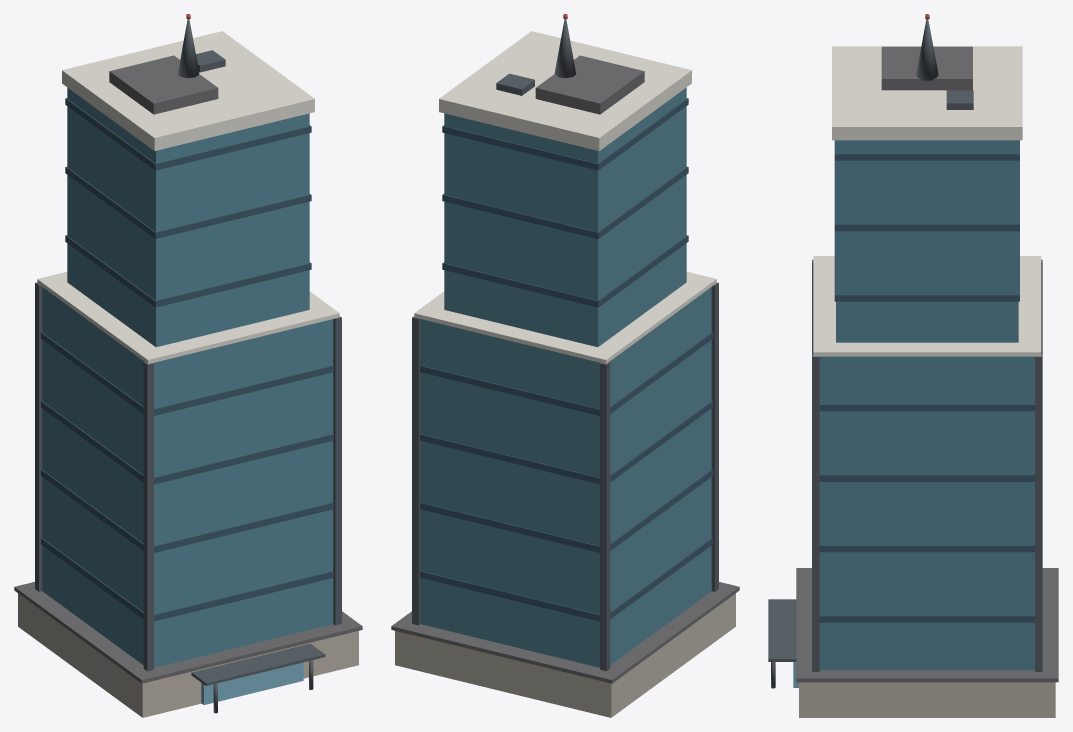
The model's file is office_tower_high.glb.
3 renders of one model, left to right at view 1: azimuth 30°, elevation 25°; view 2: azimuth 150°, elevation 25°; view 3: azimuth 270°, elevation 25°, orthographic. The views are drawn at different scales.
Parts seen in each view (by area): view 1: office_shaft, office_upper, office_crown, office_podium, office_setback_slab, office_podium_roof, office_roof_box, office_corner_fin, office_corner_fin.002, office_corner_fin.001, office_spandrel.003, office_spandrel.001 (+8 smaller); view 2: office_shaft, office_upper, office_crown, office_podium, office_setback_slab, office_podium_roof, office_roof_box, office_corner_fin.001, office_corner_fin.003, office_corner_fin, office_spandrel.003, office_spandrel.001 (+7 smaller); view 3: office_shaft, office_upper, office_crown, office_podium, office_setback_slab, office_podium_roof, office_roof_box, office_corner_fin.002, office_corner_fin.003, office_canopy, office_spandrel_up.001, office_spandrel_up (+7 smaller).
Part boxes in pixels (x1,y1,x2,y2): office_shaft: (42,287,333,667); office_upper: (67,87,309,347); office_crown: (62,31,314,150); office_podium: (18,593,358,717); office_setback_slab: (37,271,339,363); office_podium_roof: (14,582,362,683); office_roof_box: (109,55,218,114); office_corner_fin: (143,362,153,671); office_corner_fin.002: (333,316,341,625); office_corner_fin.001: (35,282,42,591); office_spandrel.003: (41,332,333,415); office_spandrel.001: (41,469,333,552); office_shaft: (420,287,711,667); office_upper: (444,87,686,347); office_crown: (439,31,691,150); office_podium: (395,593,735,717); office_setback_slab: (414,271,716,363); office_podium_roof: (391,582,739,683); office_roof_box: (535,55,644,114); office_corner_fin.001: (600,362,610,671); office_corner_fin.003: (412,316,420,625); office_corner_fin: (711,282,718,591); office_spandrel.003: (420,332,712,415); office_spandrel.001: (420,469,712,552); office_shaft: (819,356,1034,670); office_upper: (836,140,1018,342); office_crown: (832,46,1022,140); office_podium: (799,682,1055,717); office_setback_slab: (813,256,1041,356); office_podium_roof: (796,568,1058,682); office_roof_box: (881,46,972,90); office_corner_fin.002: (812,354,819,671); office_corner_fin.003: (1035,354,1042,671); office_canopy: (768,599,796,661); office_spandrel_up.001: (834,160,1019,231); office_spandrel_up: (834,231,1019,301).
Bounding box in the file's own units: 38.8 × 106 × 42.9.
